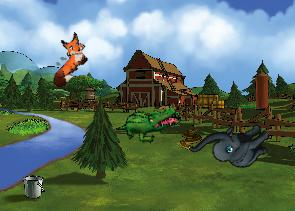crocodile: (114, 91, 183, 155)
elephant: (188, 101, 277, 189)
fox: (36, 29, 97, 90)
